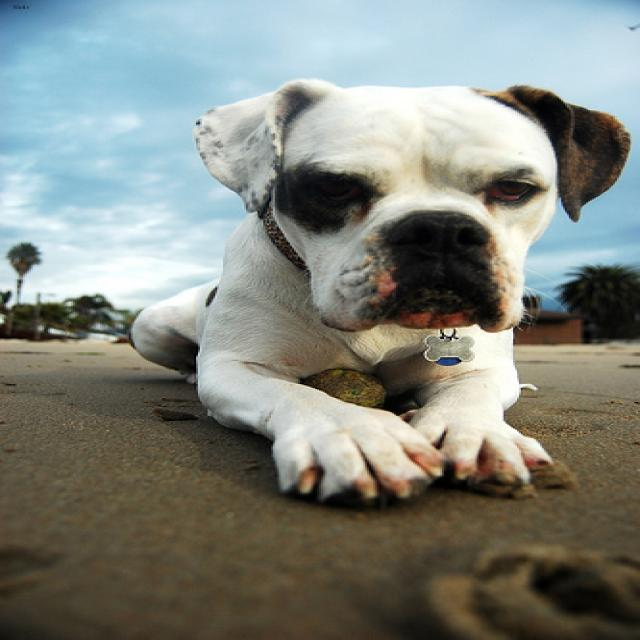dog-american_bulldog: (104, 70, 636, 513)
